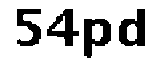4: (47, 6, 81, 50)
5: (11, 3, 44, 51)
d: (113, 3, 151, 53)
p: (79, 13, 114, 59)
